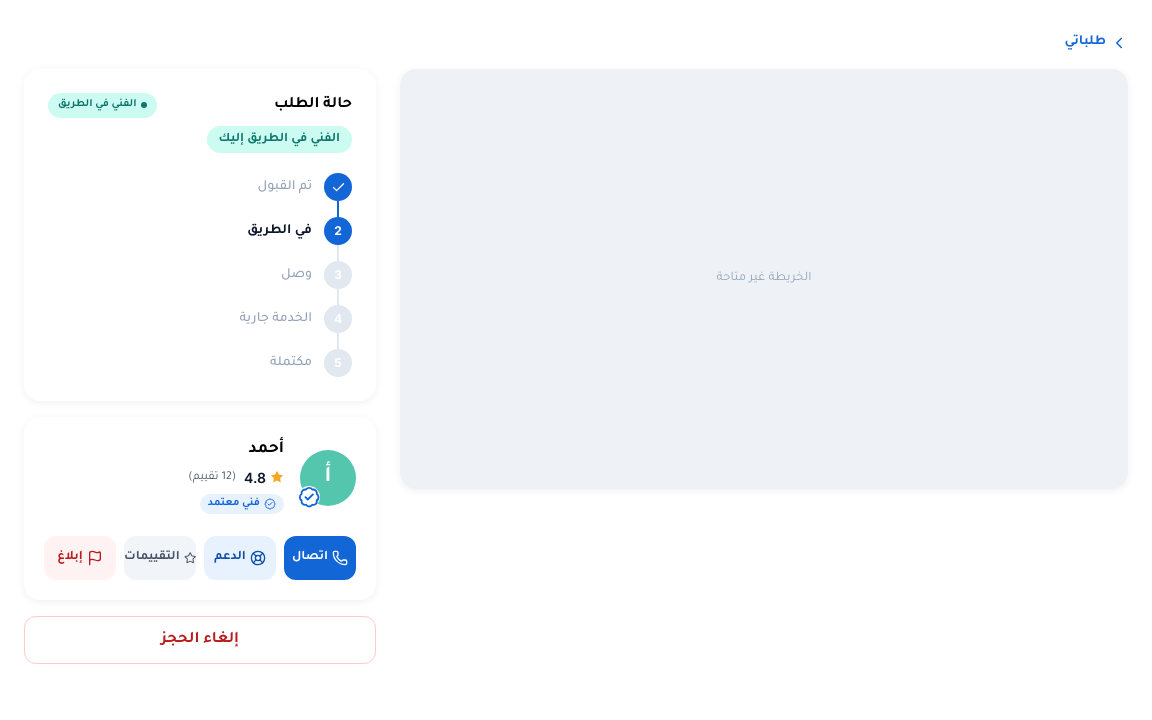
Scenario: TrackingPage › opens the report-technician modal with the conduct reason picker
Step 1. Click the button "إبلاغ" → (80, 558), box x1=44 y1=536 x2=116 y2=580
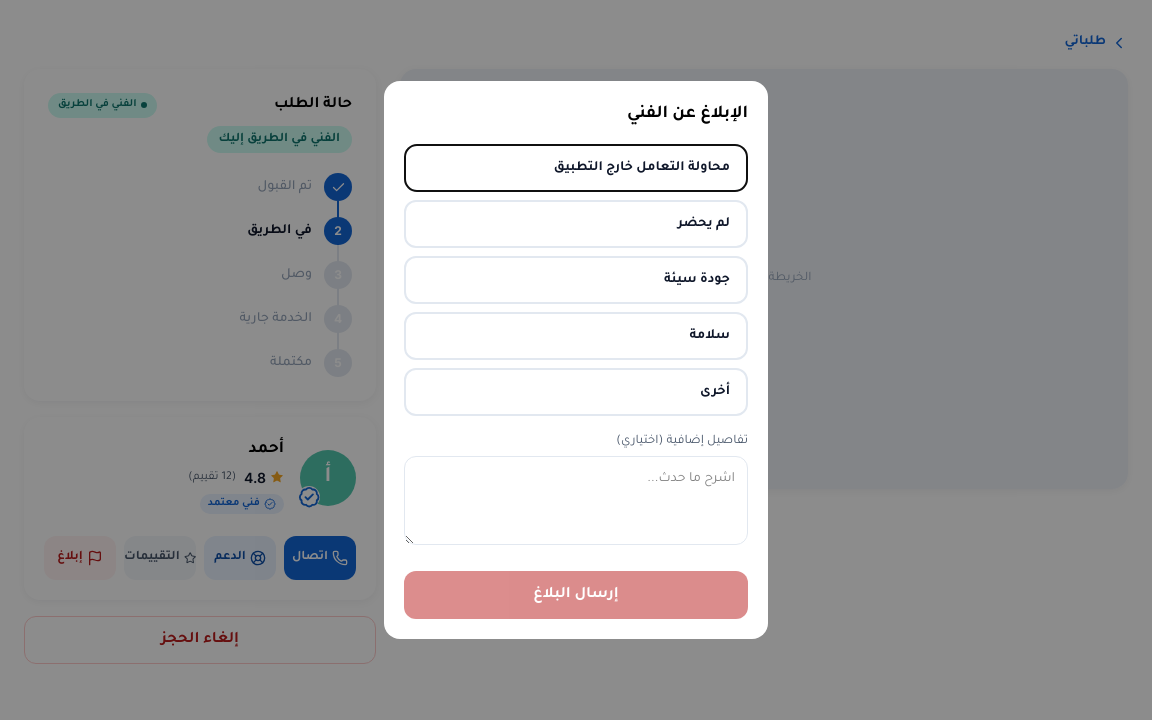
Check: the heading "الإبلاغ عن الفني" is shown, box x1=627 y1=105 x2=748 y2=123
Check: the radio button labelled "محاولة التعامل خارج التطبيق" is shown, box x1=404 y1=144 x2=748 y2=192
